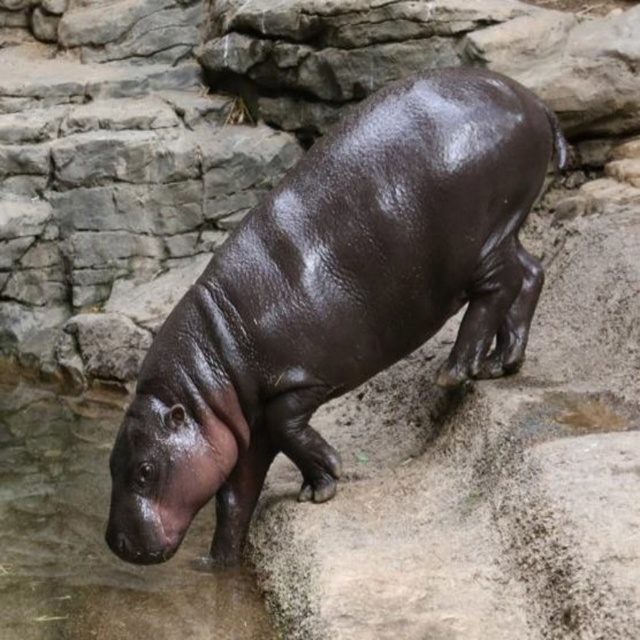Hippopotamus: (105, 68, 567, 566)
